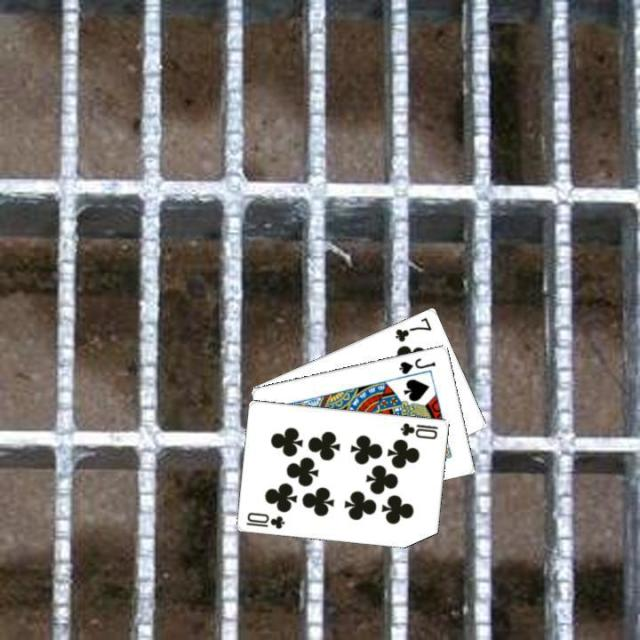10C: (396, 419, 440, 441), (243, 508, 286, 530)
7C: (391, 313, 434, 343)
JS: (395, 354, 437, 375)
